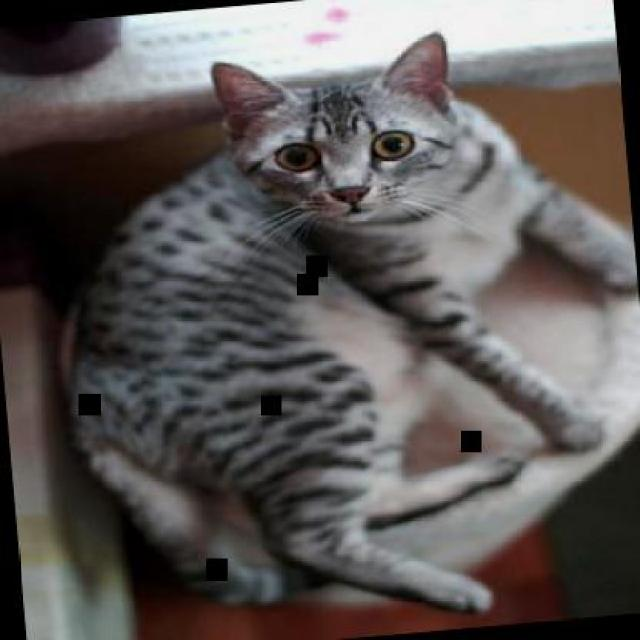cat: (34, 16, 638, 638)
